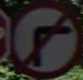Don't turn right: (10, 14, 78, 71)
